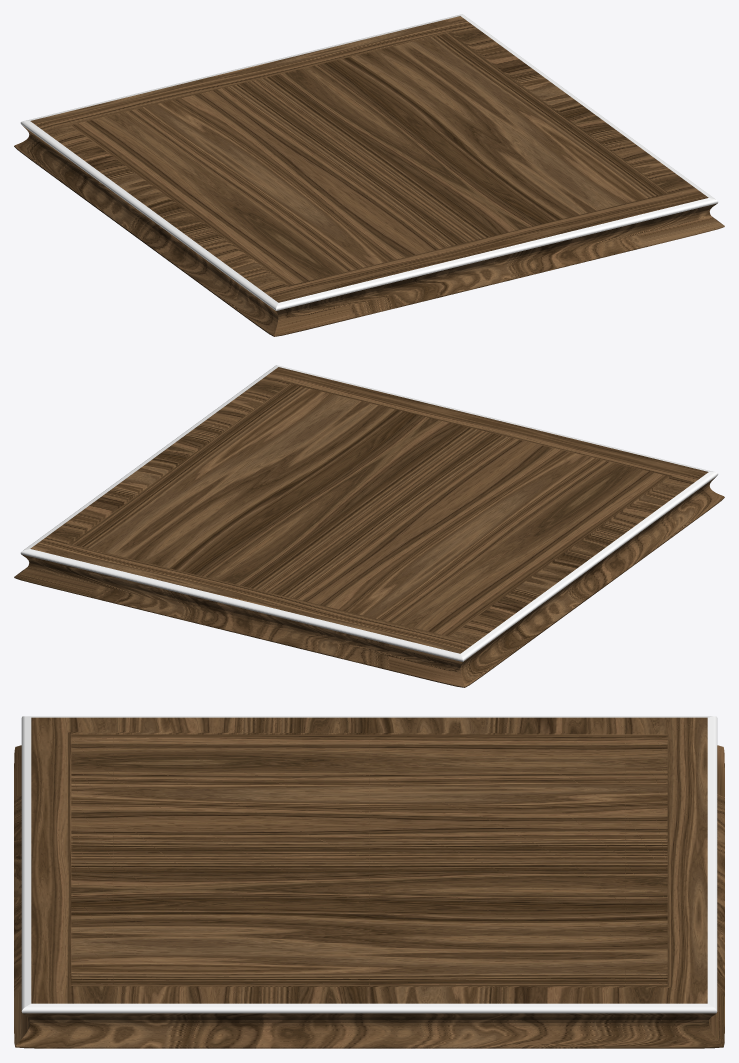
Rendered from Board.fbx.
3 views of the same model, one above another, from view 1: azimuth 30°, elevation 25°; view 2: azimuth 150°, elevation 25°; view 3: azimuth 270°, elevation 25° (orthographic). The views are drawn at different scales.
Visible parts, largest first — view 1: Cube; view 2: Cube; view 3: Cube.
Boxes of the visible parts, x1,y1,x2,y2 form: Cube: (14,14,724,336); Cube: (14,365,724,687); Cube: (14,716,724,1048).
Size of the model in its own units: 1897 by 117 by 1897.
3 materials, 1 textured.
